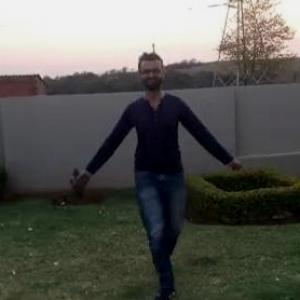land: (54, 42, 271, 293)
